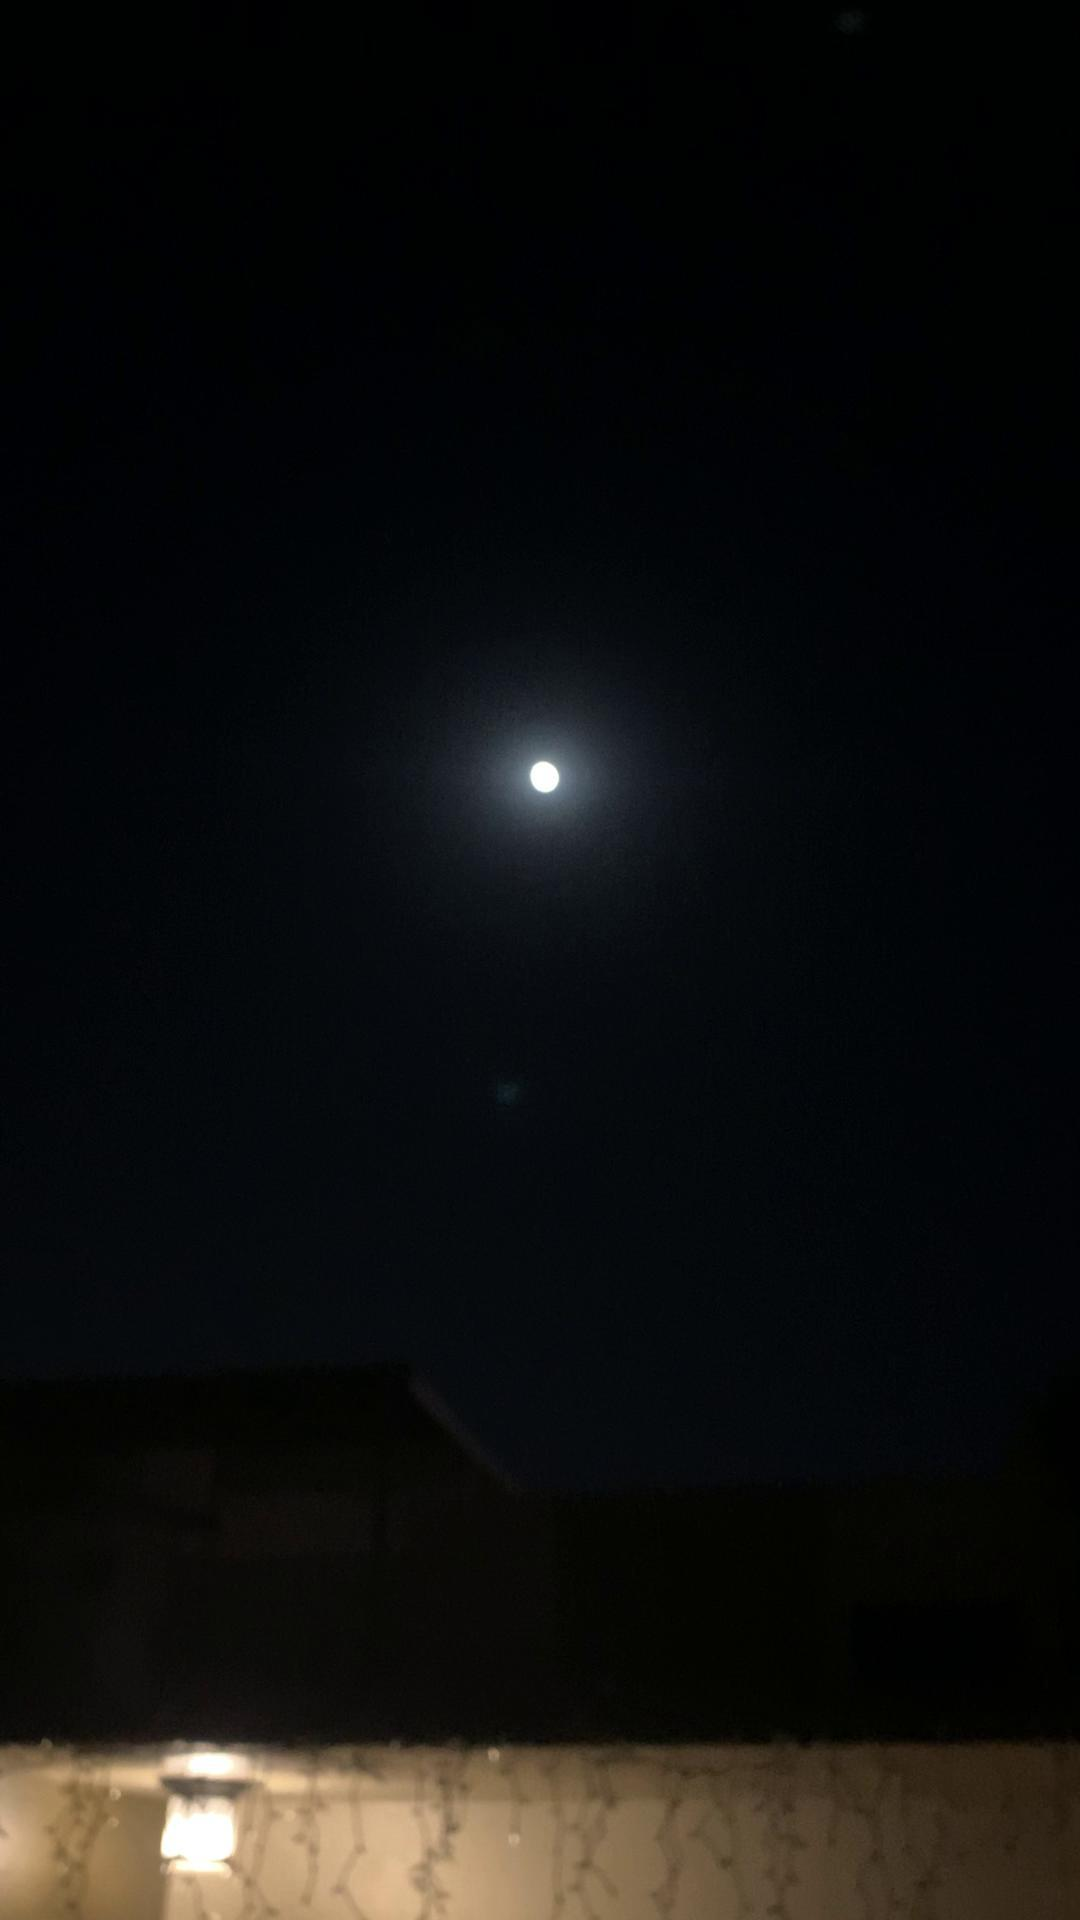moon: (505, 748, 592, 844)
